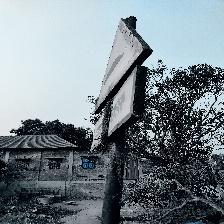Speed-breaker: (88, 12, 152, 147)
